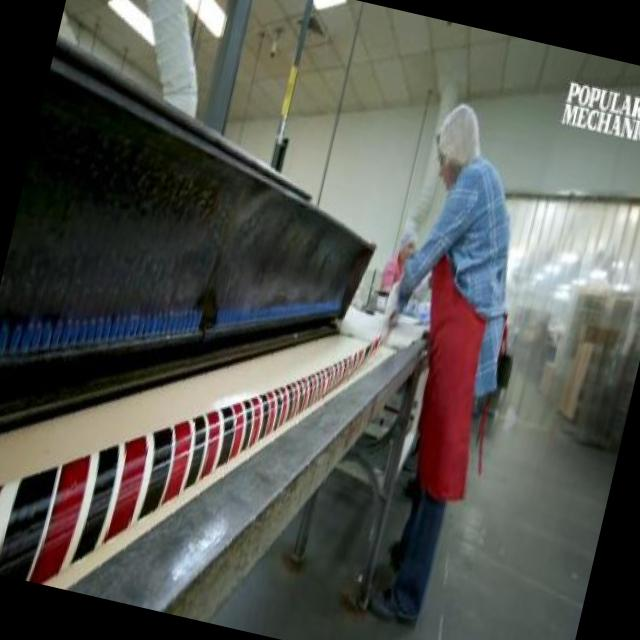hairnet: (432, 101, 490, 162)
